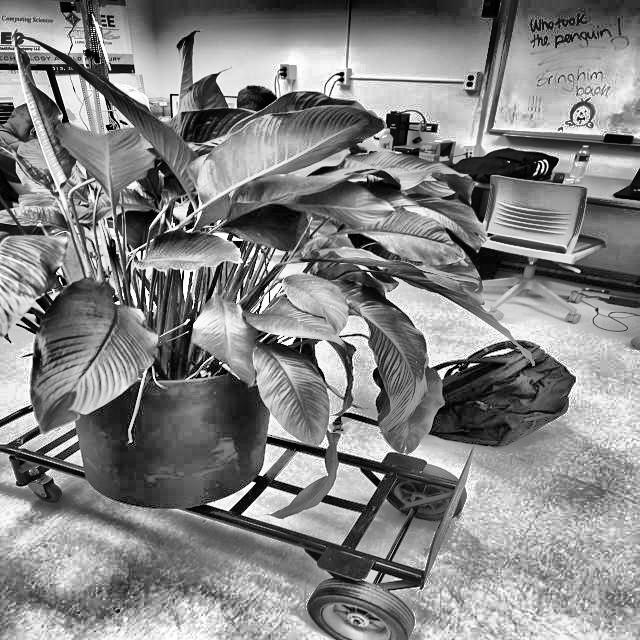plants: (2, 24, 520, 400)
